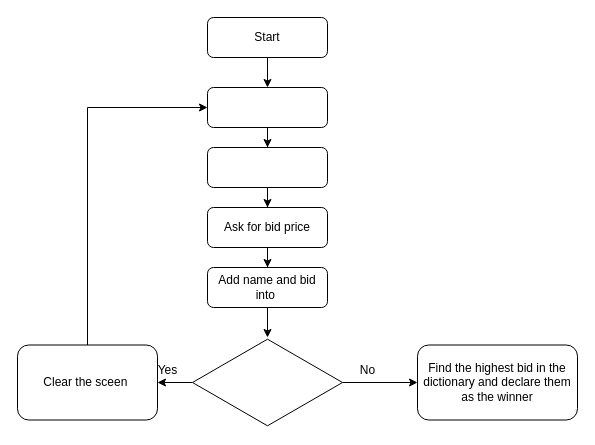
Some shapes in this 595 by 445 pixel diagram are drawn without their labels. Each missing label, with the centre of its shape:
"Ask for name input" goes at point 267,167.
"Ask if there are other users who want to bid" goes at point 267,382.
"Show logo from art.py" goes at point 267,107.
